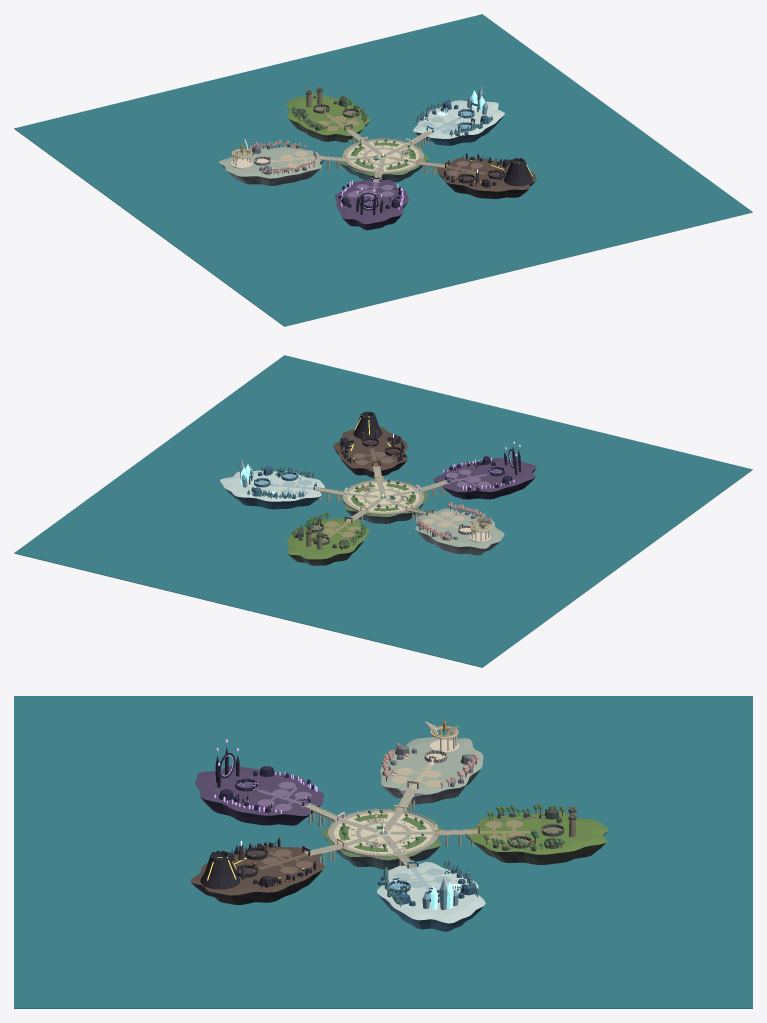
File: FivefoldSanctuary.glb
The picture shows the model from 3 angles, top to bottom: view 1: azimuth 30°, elevation 25°; view 2: azimuth 150°, elevation 25°; view 3: azimuth 270°, elevation 25°; orthographic projection. The views are drawn at different scales.
Visible parts, largest first — view 1: Ocean_VisualOnly_Still water_0_0, Terrain_VoidRift_VoidRift_ground_-3_-4, Terrain_CelestialSummit_CelestialSummit_ground_-5_1, Terrain_IronLowlands_IronLowlands_ground_-1_4, Terrain_FrostboundGlacier_FrostboundGlacier_ground_4_1, Terrain_InfernalCaldera_InfernalCaldera_ground_2_-4, Hub_Warm ivory_-1_0, Terrain_CelestialSummit_CelestialSummit_dark_-5_1, Terrain_InfernalCaldera_InfernalCaldera_dark_2_-4, Landmark_InfernalCaldera_InfernalCaldera_dark_3_-5, Hub_Sanctuary limestone_-1_0; view 2: Ocean_VisualOnly_Still water_0_0, Terrain_VoidRift_VoidRift_ground_-3_-4, Terrain_IronLowlands_IronLowlands_ground_-1_4, Terrain_FrostboundGlacier_FrostboundGlacier_ground_4_1, Terrain_CelestialSummit_CelestialSummit_ground_-5_1, Terrain_InfernalCaldera_InfernalCaldera_ground_2_-4, Hub_Warm ivory_-1_0, Terrain_FrostboundGlacier_FrostboundGlacier_dark_4_1, Terrain_VoidRift_VoidRift_dark_-3_-4, Hub_Sanctuary limestone_-1_0, Landmark_InfernalCaldera_InfernalCaldera_dark_3_-5, Terrain_CelestialSummit_CelestialSummit_dark_-5_1; view 3: Ocean_VisualOnly_Still water_0_0, Terrain_VoidRift_VoidRift_ground_-3_-4, Terrain_IronLowlands_IronLowlands_ground_-1_4, Terrain_CelestialSummit_CelestialSummit_ground_-5_1, Terrain_FrostboundGlacier_FrostboundGlacier_ground_4_1, Terrain_InfernalCaldera_InfernalCaldera_ground_2_-4, Hub_Warm ivory_-1_0, Terrain_IronLowlands_IronLowlands_dark_-1_4, Terrain_InfernalCaldera_InfernalCaldera_dark_2_-4, Landmark_InfernalCaldera_InfernalCaldera_dark_3_-5, Terrain_VoidRift_VoidRift_dark_-3_-4, Hub_Sanctuary limestone_-1_0 (+6 smaller).
Part boxes in pixels (box(x1,y1,x2,y2)): Ocean_VisualOnly_Still water_0_0: box(14, 14, 752, 326); Terrain_VoidRift_VoidRift_ground_-3_-4: box(335, 179, 408, 224); Terrain_CelestialSummit_CelestialSummit_ground_-5_1: box(219, 146, 321, 178); Terrain_IronLowlands_IronLowlands_ground_-1_4: box(286, 93, 369, 135); Terrain_FrostboundGlacier_FrostboundGlacier_ground_4_1: box(413, 100, 504, 138); Terrain_InfernalCaldera_InfernalCaldera_ground_2_-4: box(436, 158, 536, 191); Hub_Warm ivory_-1_0: box(347, 141, 419, 171); Terrain_CelestialSummit_CelestialSummit_dark_-5_1: box(220, 153, 324, 185); Terrain_InfernalCaldera_InfernalCaldera_dark_2_-4: box(439, 174, 535, 198); Landmark_InfernalCaldera_InfernalCaldera_dark_3_-5: box(504, 158, 532, 186); Hub_Sanctuary limestone_-1_0: box(343, 139, 423, 174); Ocean_VisualOnly_Still water_0_0: box(14, 355, 752, 667); Terrain_VoidRift_VoidRift_ground_-3_-4: box(433, 458, 536, 492); Terrain_IronLowlands_IronLowlands_ground_-1_4: box(287, 518, 369, 559); Terrain_FrostboundGlacier_FrostboundGlacier_ground_4_1: box(220, 470, 324, 501); Terrain_CelestialSummit_CelestialSummit_ground_-5_1: box(415, 508, 504, 548); Terrain_InfernalCaldera_InfernalCaldera_ground_2_-4: box(333, 426, 407, 471); Hub_Warm ivory_-1_0: box(347, 482, 419, 512); Terrain_FrostboundGlacier_FrostboundGlacier_dark_4_1: box(225, 488, 320, 509); Terrain_VoidRift_VoidRift_dark_-3_-4: box(434, 469, 535, 499); Hub_Sanctuary limestone_-1_0: box(343, 480, 423, 515); Landmark_InfernalCaldera_InfernalCaldera_dark_3_-5: box(353, 411, 382, 438); Terrain_CelestialSummit_CelestialSummit_dark_-5_1: box(417, 511, 499, 555); Ocean_VisualOnly_Still water_0_0: box(14, 696, 752, 1008); Terrain_VoidRift_VoidRift_ground_-3_-4: box(195, 766, 324, 815); Terrain_IronLowlands_IronLowlands_ground_-1_4: box(465, 812, 607, 854); Terrain_CelestialSummit_CelestialSummit_ground_-5_1: box(380, 737, 483, 796); Terrain_FrostboundGlacier_FrostboundGlacier_ground_4_1: box(377, 862, 485, 923); Terrain_InfernalCaldera_InfernalCaldera_ground_2_-4: box(190, 845, 324, 895); Hub_Warm ivory_-1_0: box(334, 812, 432, 854); Terrain_IronLowlands_IronLowlands_dark_-1_4: box(466, 832, 606, 864); Terrain_InfernalCaldera_InfernalCaldera_dark_2_-4: box(191, 858, 322, 904); Landmark_InfernalCaldera_InfernalCaldera_dark_3_-5: box(200, 850, 240, 889); Terrain_VoidRift_VoidRift_dark_-3_-4: box(197, 787, 320, 825); Hub_Sanctuary limestone_-1_0: box(328, 810, 438, 857).
Bounding box in the file's own units: 2400 × 218 × 2400.
